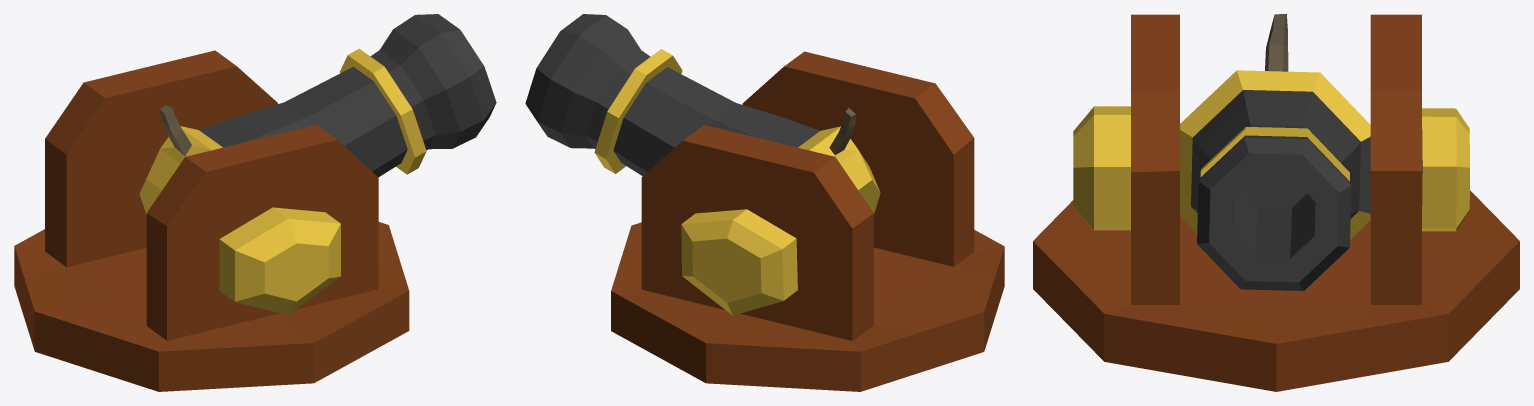
File: Cannon.fbx
The picture shows the model from 3 angles, left to right: view 1: azimuth 30°, elevation 25°; view 2: azimuth 150°, elevation 25°; view 3: azimuth 270°, elevation 25°; orthographic projection. The views are drawn at different scales.
Parts seen in each view (by area): view 1: Circle, Circle.001; view 2: Circle, Circle.001; view 3: Circle, Circle.001.
Boxes of the visible parts, x1=… form: Circle: x1=14, y1=50, x2=409, y2=391; Circle.001: x1=139, y1=14, x2=496, y2=214; Circle: x1=611, y1=51, x2=1004, y2=391; Circle.001: x1=525, y1=14, x2=880, y2=213; Circle: x1=1033, y1=14, x2=1519, y2=391; Circle.001: x1=1180, y1=14, x2=1370, y2=290.
Bounding box in the file's own units: 644 × 323 × 515.
